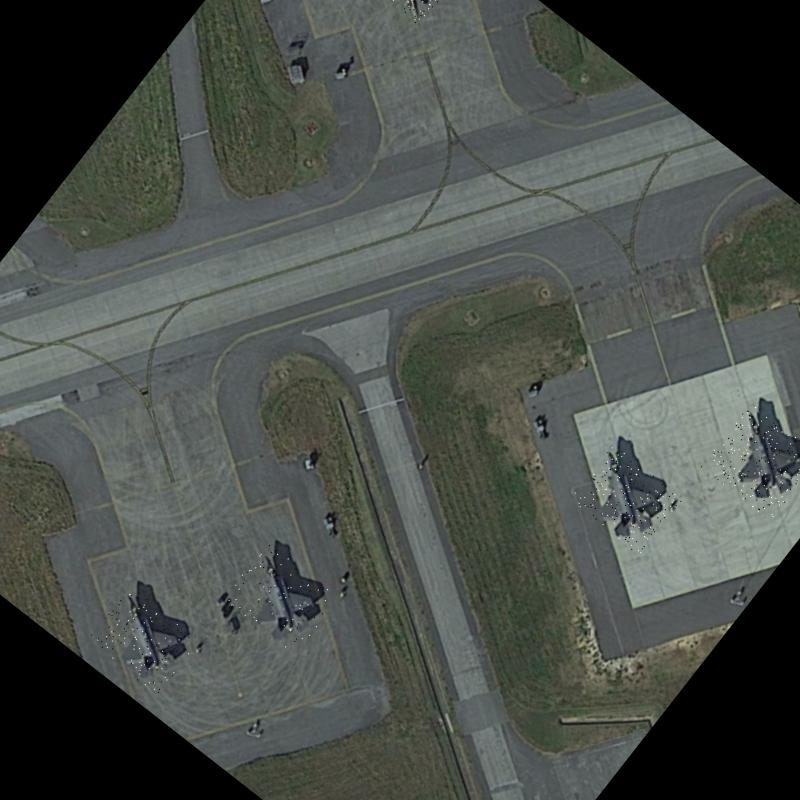A15: (223, 543, 339, 656), (568, 444, 683, 556), (86, 586, 201, 697), (700, 402, 800, 521), (348, 0, 469, 28)
